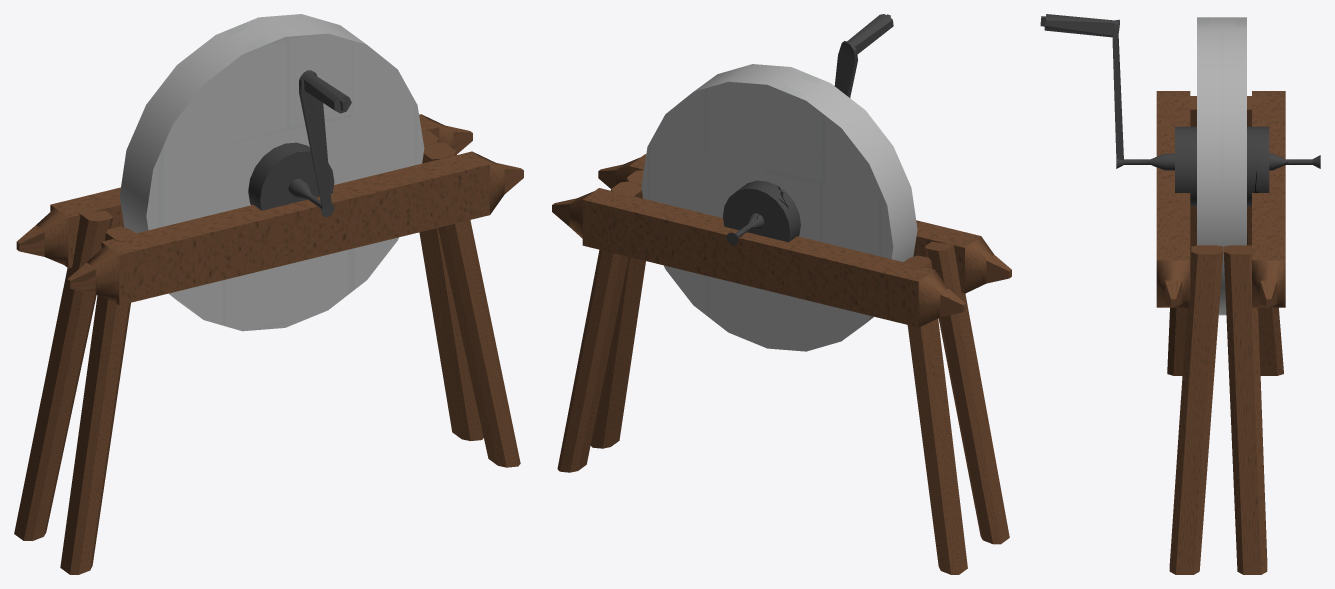
File: Grindstone.fbx
3 views of the same model, side by side, from view 1: azimuth 30°, elevation 25°; view 2: azimuth 150°, elevation 25°; view 3: azimuth 270°, elevation 25° (orthographic). The views are drawn at different scales.
Visible parts, largest first — view 1: pCube8; view 2: pCube8; view 3: pCube8.
Part boxes in pixels (<box>): pCube8: <box>14,14,523,574</box>; pCube8: <box>552,14,1011,574</box>; pCube8: <box>1040,14,1320,574</box>.
Bounding box in the file's own units: 122 × 123 × 69.9.
3 materials, 3 textured.
